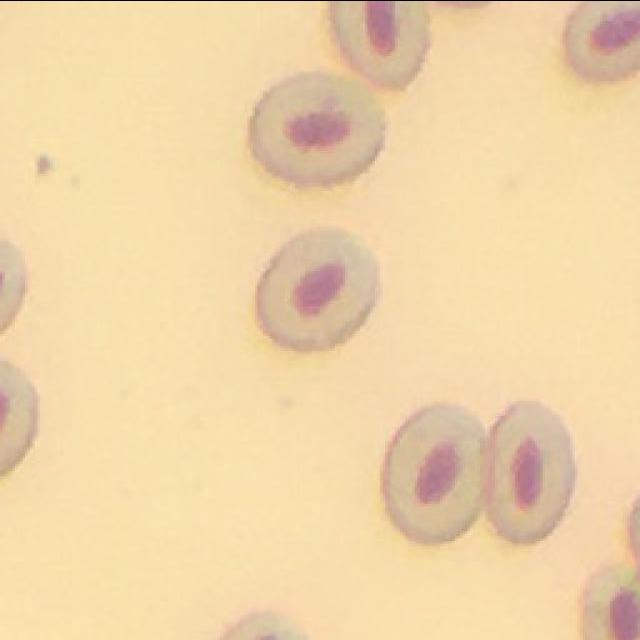RBC: (251, 72, 385, 184), (259, 232, 378, 349), (384, 405, 484, 542), (485, 401, 576, 541), (332, 0, 429, 88), (566, 0, 640, 80), (1, 360, 38, 475), (584, 566, 640, 640)
